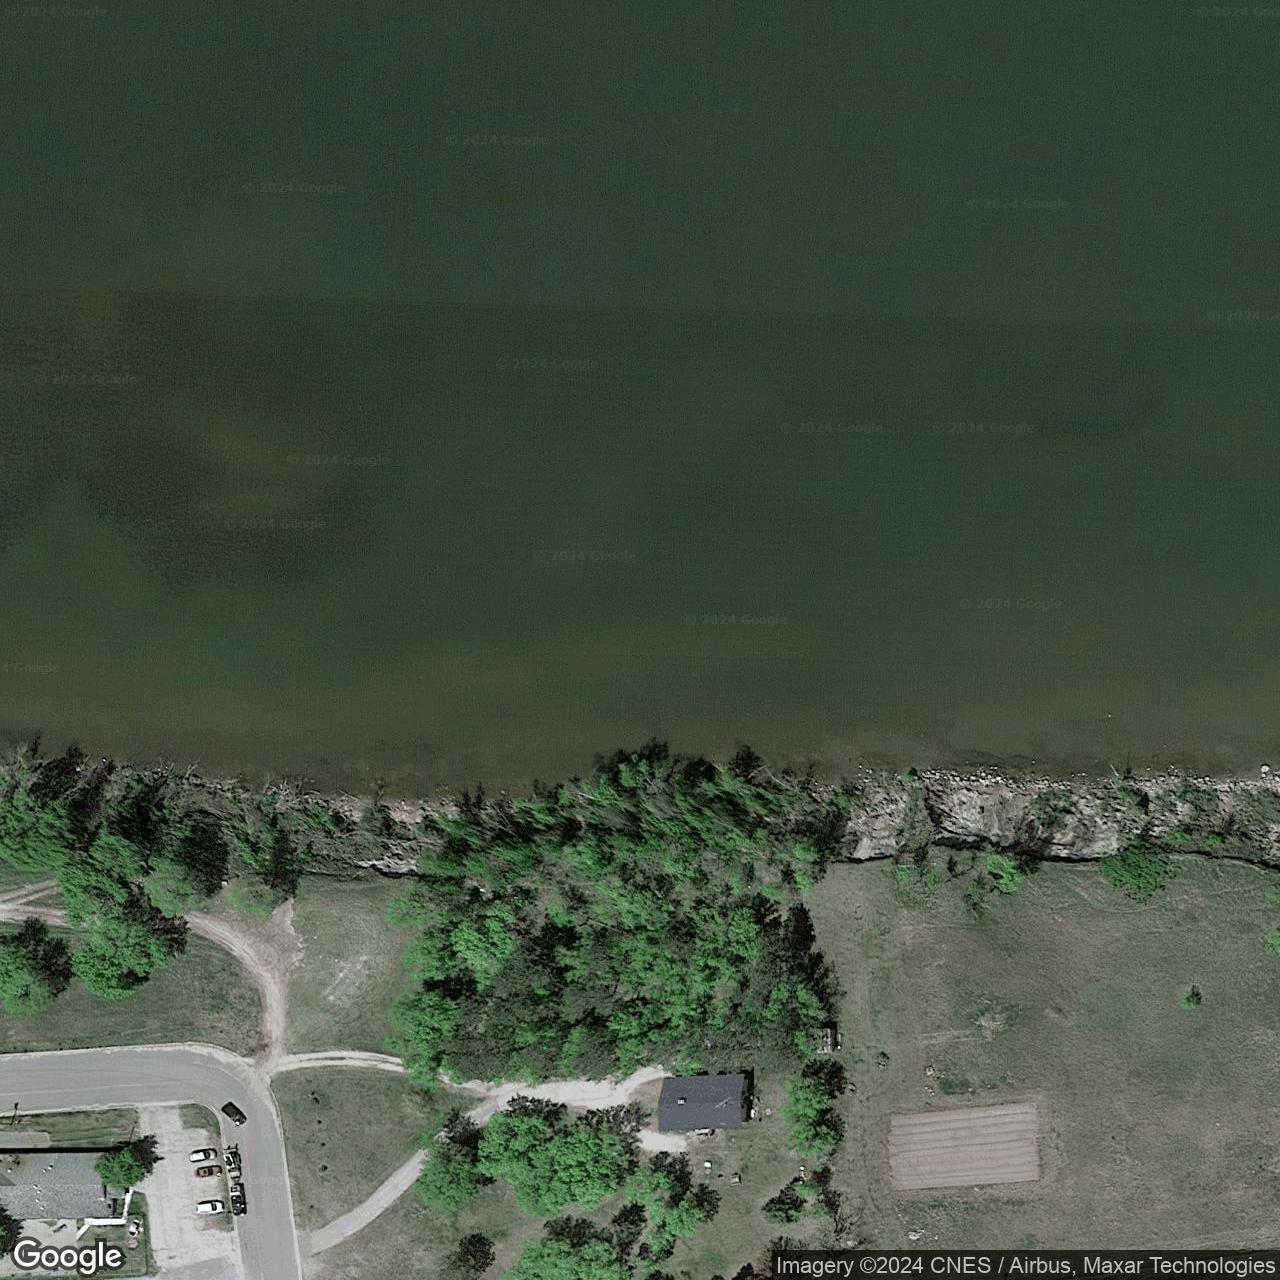House: (0, 1149, 124, 1219), (656, 1073, 750, 1131)
